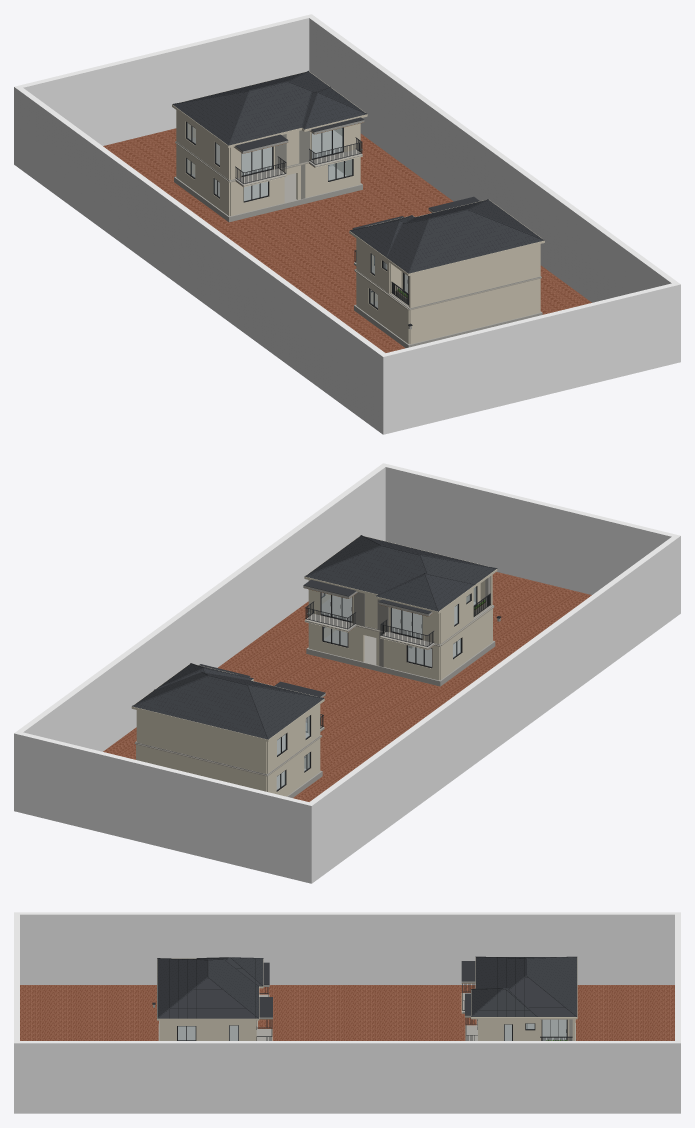
Rendered from doi-khang.dae.
3 views of the same model, one above another, from view 1: azimuth 30°, elevation 25°; view 2: azimuth 150°, elevation 25°; view 3: azimuth 270°, elevation 25° (orthographic). The views are drawn at different scales.
Parts seen in each view (by area): view 1: SketchUp (×3), AZONE_Trụ_tường_41 (×2), AZONE_Khối_80 (×2), AZONE_Mặt_mái___diềm_10, AZONE_Mặt_mái___diềm_14 (×2), AZONE_Mặt_mái___diềm_2, AZONE_Khối_81, AZONE_Mặt_mái___diềm_12, AZONE_Trụ_tường_40, AZONE_Trụ_tường_35, AZONE_Mặt_mái___diềm_16, AZONE_Mặt_mái___diềm_19 (+4 smaller); view 2: SketchUp (×3), AZONE_Trụ_tường_41 (×2), AZONE_Mặt_mái___diềm_10, AZONE_Mặt_mái___diềm_14 (×2), AZONE_Khối_80, AZONE_Mặt_mái___diềm_2, AZONE_Khối_81, AZONE_Mặt_mái___diềm_12, AZONE_Trụ_tường_40, AZONE_Trụ_tường_35, AZONE_Mặt_mái___diềm_16, AZONE_Mặt_mái___diềm_19 (+5 smaller); view 3: SketchUp (×3), AZONE_Mặt_mái___diềm_10 (×2), AZONE_Mặt_mái___diềm_14, AZONE_Mặt_mái___diềm_2 (×2), AZONE_Khối_81 (×2), AZONE_Mặt_mái___diềm_12 (×2), AZONE_Mặt_mái___diềm_19, AZONE_Trụ_tường_37 (×2), AZONE_Trụ_tường_45, AZONE_Mặt_mái___diềm_16 (×2), AZONE_Mặt_mái___diềm_6, AZONE_Trụ_tường_46 (+2 smaller).
Part boxes in pixels (left/top/right/bottom): SketchUp (×3): left=14, top=14, right=680, bottom=434; AZONE_Trụ_tường_41 (×2): left=409, top=244, right=539, bottom=344; AZONE_Khối_80 (×2): left=174, top=166, right=542, bottom=347; AZONE_Mặt_mái___diềm_10: left=409, top=231, right=543, bottom=273; AZONE_Mặt_mái___diềm_14 (×2): left=173, top=91, right=541, bottom=238; AZONE_Mặt_mái___diềm_2: left=229, top=91, right=301, bottom=145; AZONE_Khối_81: left=175, top=130, right=358, bottom=180; AZONE_Mặt_mái___diềm_12: left=425, top=216, right=542, bottom=240; AZONE_Trụ_tường_40: left=378, top=288, right=409, bottom=343; AZONE_Trụ_tường_35: left=296, top=163, right=327, bottom=199; AZONE_Mặt_mái___diềm_16: left=307, top=93, right=359, bottom=123; AZONE_Mặt_mái___diềm_19: left=352, top=223, right=398, bottom=256; SketchUp (×3): left=14, top=463, right=680, bottom=883; AZONE_Trụ_tường_41 (×2): left=136, top=710, right=266, bottom=791; AZONE_Mặt_mái___diềm_10: left=133, top=683, right=267, bottom=739; AZONE_Mặt_mái___diềm_14 (×2): left=248, top=535, right=379, bottom=738; AZONE_Khối_80: left=306, top=630, right=495, bottom=686; AZONE_Mặt_mái___diềm_2: left=305, top=546, right=381, bottom=594; AZONE_Khối_81: left=308, top=595, right=493, bottom=645; AZONE_Mặt_mái___diềm_12: left=192, top=679, right=267, bottom=738; AZONE_Trụ_tường_40: left=462, top=609, right=492, bottom=663; AZONE_Trụ_tường_35: left=376, top=631, right=406, bottom=672; AZONE_Mặt_mái___diềm_16: left=383, top=575, right=435, bottom=606; AZONE_Mặt_mái___diềm_19: left=428, top=575, right=474, bottom=609; SketchUp (×3): left=14, top=912, right=680, bottom=1113; AZONE_Mặt_mái___diềm_10 (×2): left=157, top=957, right=577, bottom=1017; AZONE_Mặt_mái___diềm_14: left=158, top=978, right=257, bottom=1018; AZONE_Mặt_mái___diềm_2 (×2): left=210, top=957, right=525, bottom=1017; AZONE_Khối_81 (×2): left=159, top=1019, right=566, bottom=1040; AZONE_Mặt_mái___diềm_12 (×2): left=159, top=957, right=576, bottom=1016; AZONE_Mặt_mái___diềm_19: left=476, top=990, right=536, bottom=1016; AZONE_Trụ_tường_37 (×2): left=160, top=1020, right=255, bottom=1040; AZONE_Trụ_tường_45: left=196, top=1020, right=228, bottom=1040; AZONE_Mặt_mái___diềm_16 (×2): left=232, top=958, right=502, bottom=1011; AZONE_Mặt_mái___diềm_6: left=537, top=985, right=575, bottom=1016; AZONE_Trụ_tường_46: left=479, top=1019, right=503, bottom=1040.
Bounding box in the file's own units: 1085 × 2330 × 348.
Materials: 17 (1 with a texture image).
